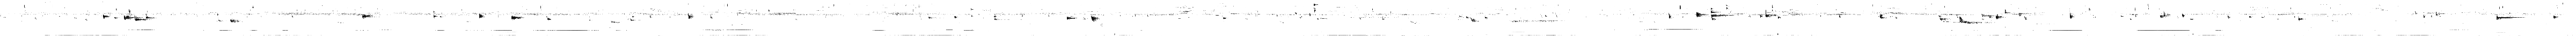meteor: (1710, 8, 1735, 20), (1960, 16, 1981, 23), (1764, 10, 1776, 18), (1695, 11, 1709, 18), (2497, 16, 2520, 20), (1939, 15, 1948, 21), (1981, 13, 1994, 18), (123, 15, 135, 20), (361, 13, 373, 18), (511, 15, 522, 20), (230, 18, 240, 23), (1469, 16, 1479, 21), (1091, 16, 1099, 21), (1996, 15, 2004, 20), (135, 18, 146, 21), (1066, 16, 1076, 20), (146, 15, 154, 18), (480, 13, 485, 18), (688, 13, 693, 18), (2553, 15, 2558, 20), (2182, 13, 2187, 18), (103, 15, 110, 18), (1879, 15, 1886, 18), (547, 16, 552, 20), (2070, 13, 2073, 18)
